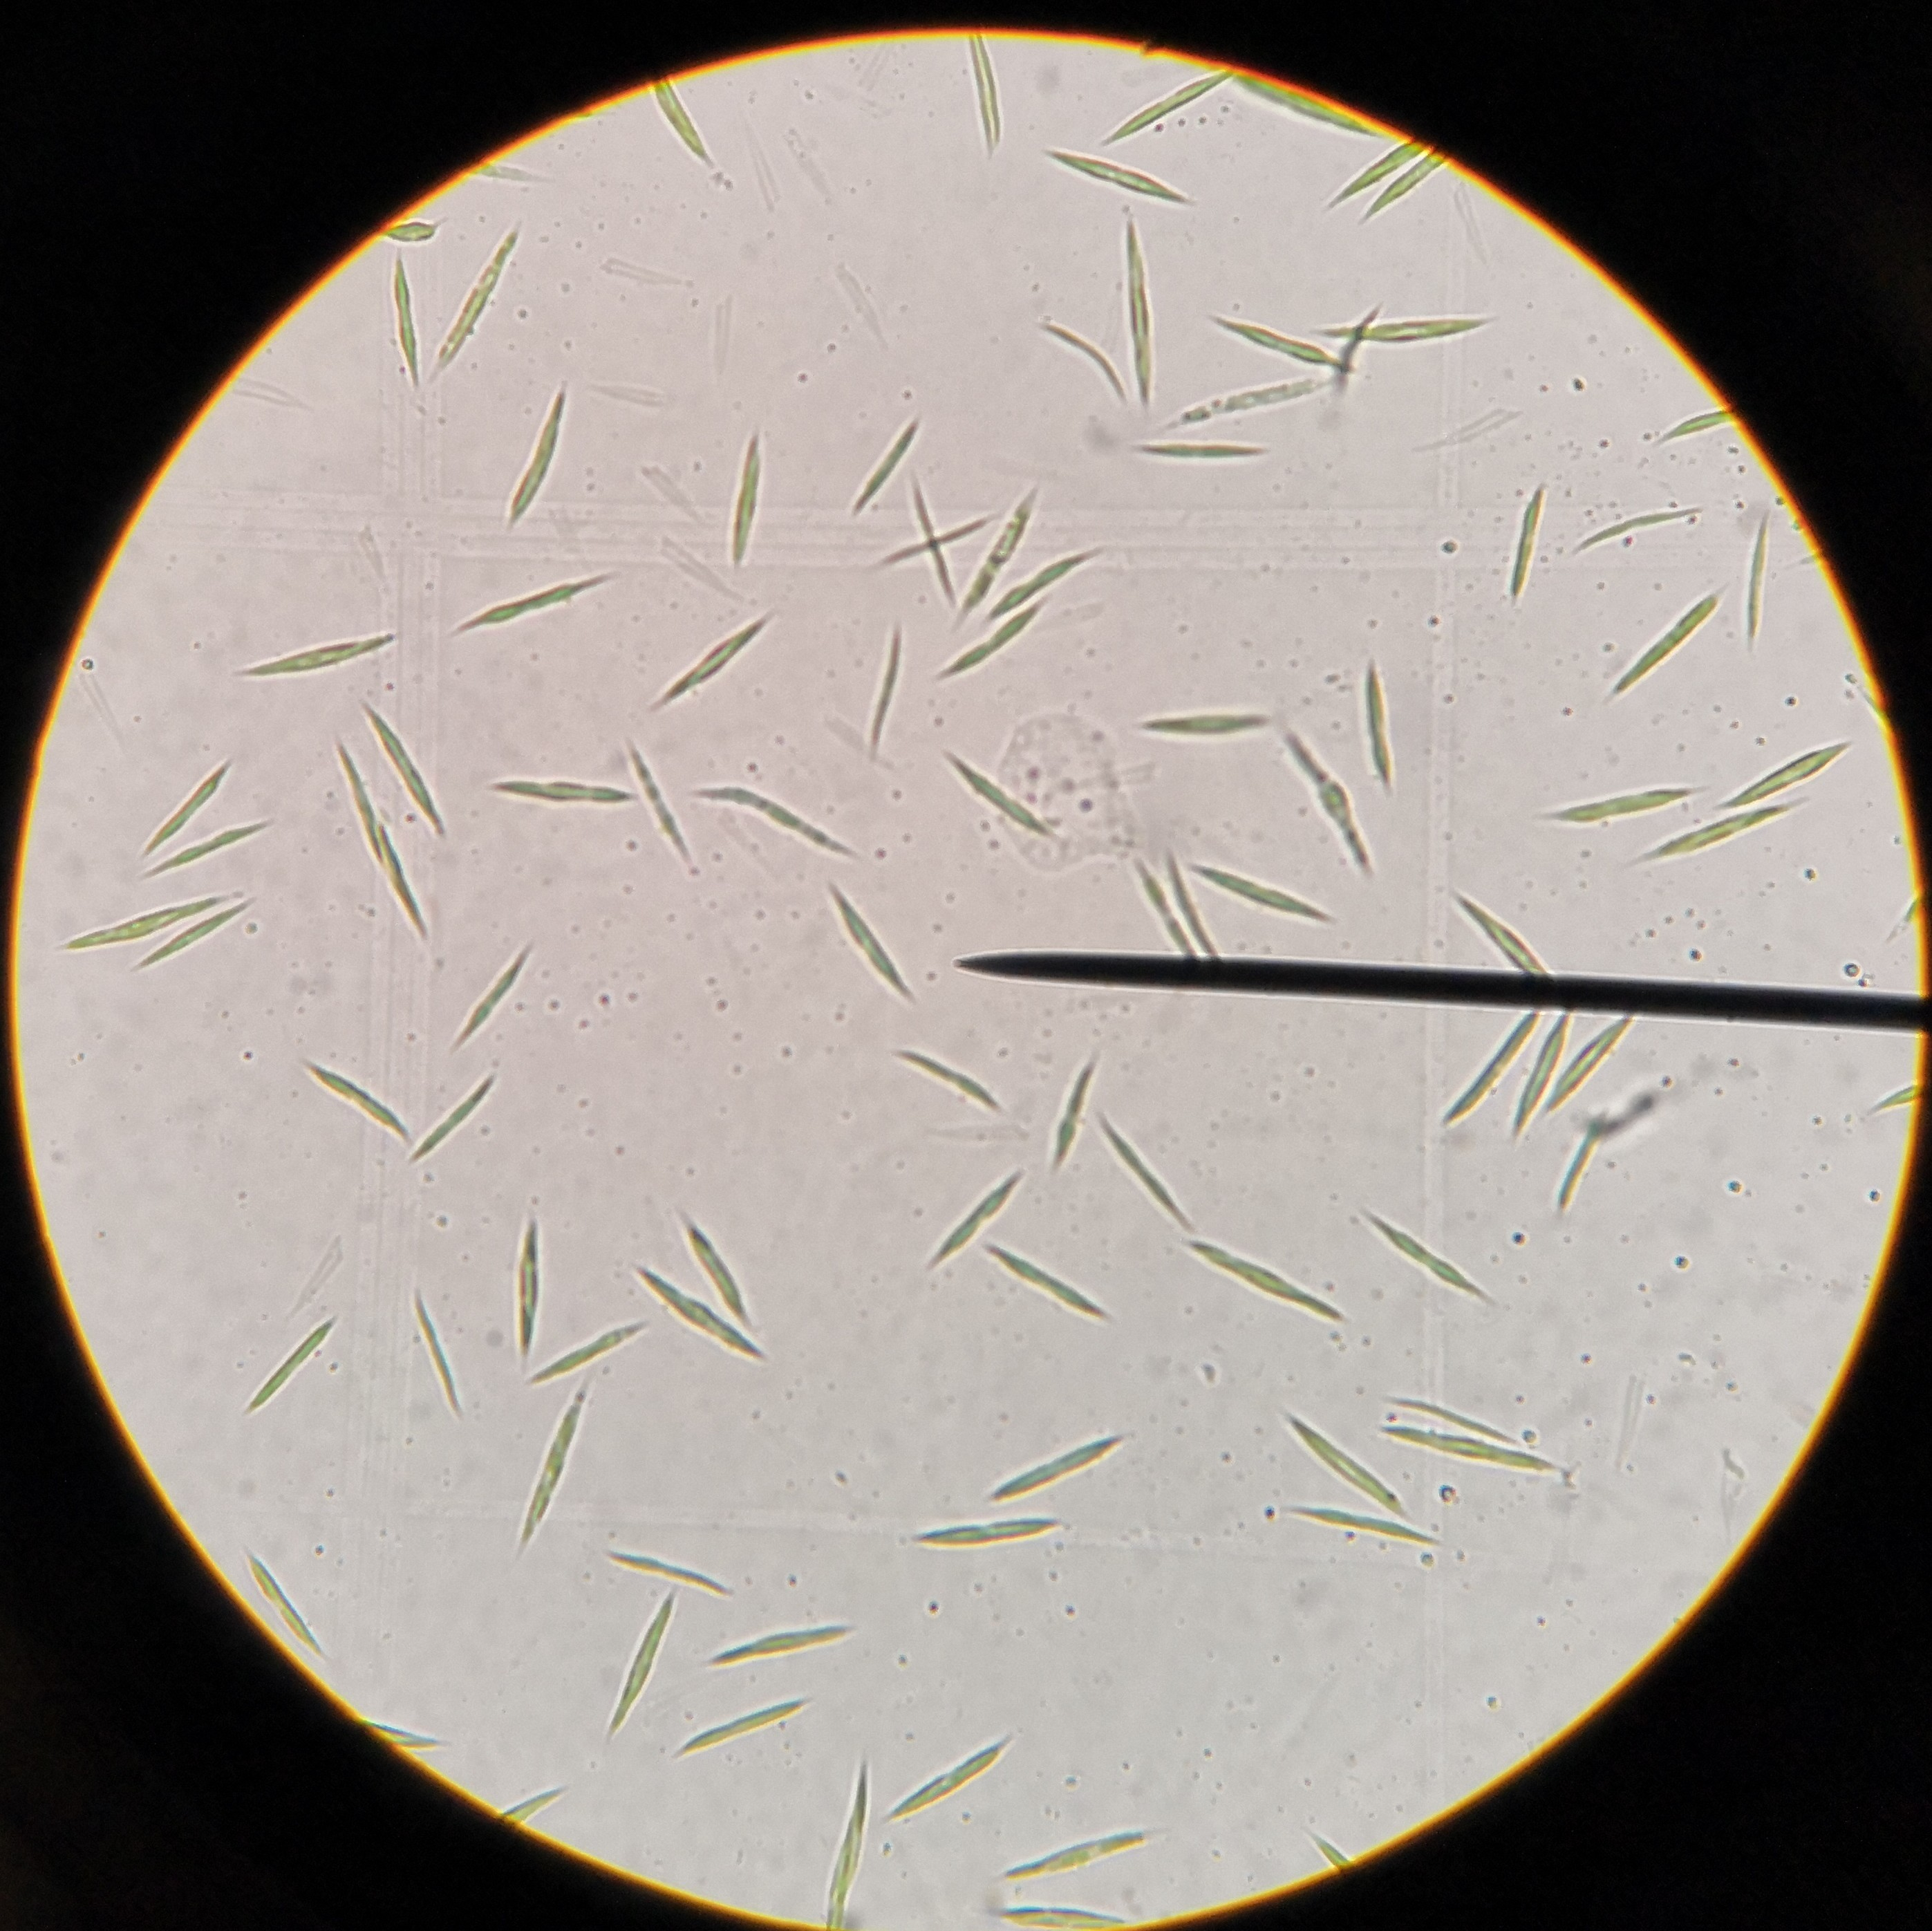Microalgae: (879, 1538, 997, 1713), (332, 737, 430, 930), (424, 228, 525, 384), (1280, 1404, 1414, 1512), (1184, 1243, 1347, 1324), (513, 1381, 592, 1535), (456, 569, 605, 647), (698, 783, 854, 858), (829, 881, 916, 1008), (359, 704, 445, 829), (232, 1312, 334, 1415), (1720, 727, 1849, 808), (1444, 1013, 1529, 1133), (1282, 743, 1365, 865), (638, 1271, 760, 1353), (1646, 805, 1805, 866), (993, 1830, 1144, 1896), (942, 755, 1050, 845), (886, 1731, 1004, 1811), (981, 1250, 1110, 1323), (930, 1167, 1027, 1263), (838, 412, 926, 516), (502, 368, 560, 520), (958, 497, 1031, 619), (1373, 1208, 1472, 1296), (1391, 1427, 1568, 1477), (1099, 1119, 1183, 1224), (1624, 587, 1708, 691), (1278, 1512, 1449, 1561), (1122, 216, 1167, 405), (1038, 147, 1181, 205), (1098, 74, 1225, 140), (143, 889, 247, 969), (412, 1070, 502, 1160), (698, 1623, 854, 1675), (665, 1699, 795, 1759), (1197, 861, 1331, 920), (141, 755, 221, 851), (622, 743, 684, 865), (412, 1296, 474, 1418), (610, 1604, 672, 1724), (992, 548, 1101, 615), (242, 1560, 318, 1655), (642, 67, 716, 164), (935, 614, 1039, 683), (896, 1052, 997, 1123), (306, 1063, 401, 1137), (1455, 891, 1545, 969), (993, 1436, 1115, 1492), (658, 624, 749, 698), (141, 819, 262, 875), (484, 766, 626, 813), (1122, 863, 1186, 967), (1545, 1105, 1607, 1211), (1557, 1024, 1628, 1116), (1365, 149, 1449, 225), (818, 1763, 859, 1920), (1195, 317, 1329, 363), (458, 946, 525, 1038), (1550, 780, 1693, 820), (728, 430, 767, 576), (1324, 147, 1416, 209), (1128, 698, 1267, 739), (67, 900, 207, 941), (1499, 483, 1550, 592), (610, 1549, 735, 1593), (244, 638, 391, 675), (513, 1211, 550, 1358), (1396, 1399, 1508, 1446), (1582, 511, 1704, 553), (1326, 320, 1495, 350), (1048, 334, 1128, 396), (953, 28, 993, 147), (875, 511, 970, 561), (1043, 1054, 1087, 1160), (866, 626, 898, 766), (1128, 440, 1273, 470), (924, 1526, 1062, 1554), (1292, 1820, 1354, 1874), (1743, 520, 1771, 628), (491, 1795, 560, 1837), (1373, 667, 1398, 783), (345, 1729, 447, 1756), (1658, 407, 1736, 435), (1009, 1908, 1124, 1926)
